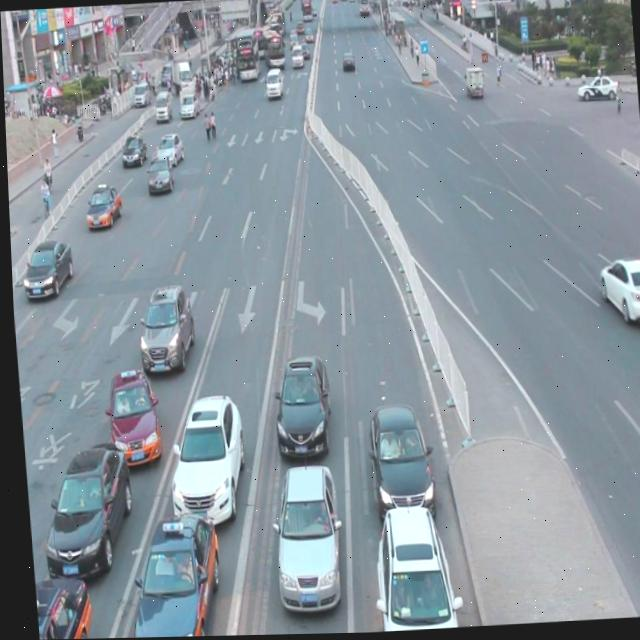car: (32, 438, 132, 581), (114, 506, 219, 638), (158, 389, 245, 529), (364, 500, 454, 633), (263, 459, 339, 614), (361, 398, 431, 522), (265, 352, 330, 461), (130, 280, 194, 373), (101, 365, 159, 467), (28, 570, 86, 640), (17, 236, 73, 303), (592, 257, 640, 326), (80, 183, 121, 231), (152, 132, 182, 168), (143, 156, 171, 194), (118, 134, 147, 170)
